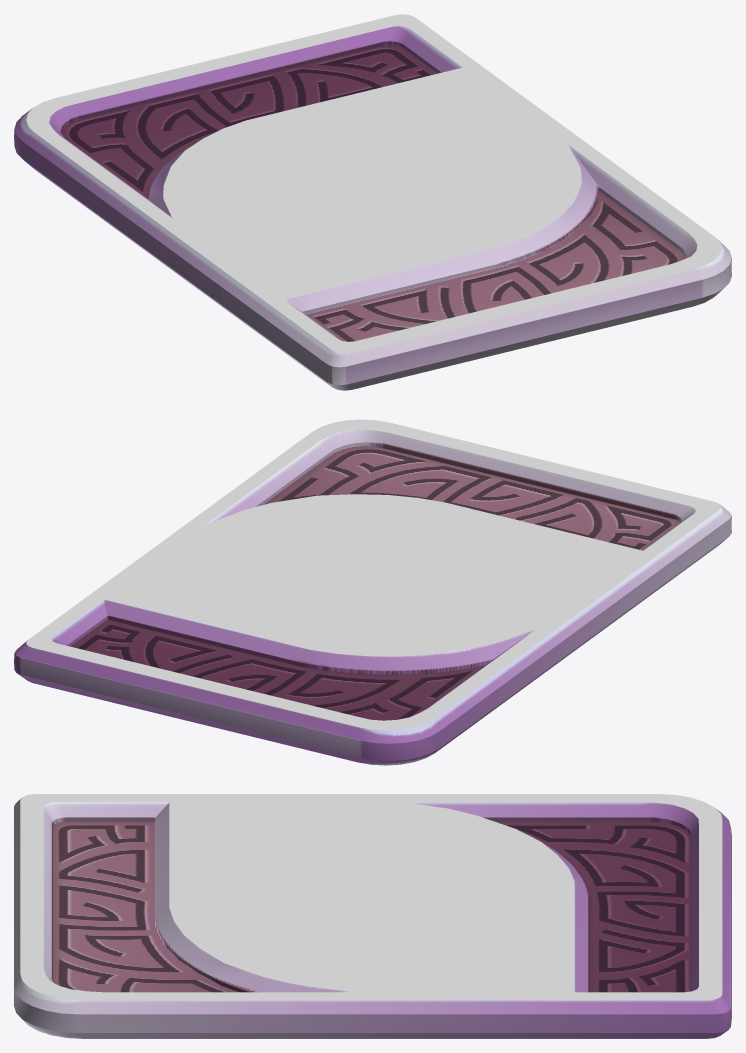
File: card_gameready.fbx
The picture shows the model from 3 angles, top to bottom: view 1: azimuth 30°, elevation 25°; view 2: azimuth 150°, elevation 25°; view 3: azimuth 270°, elevation 25°; orthographic projection. The views are drawn at different scales.
Visible parts, largest first — view 1: card; view 2: card; view 3: card.
Boxes of the visible parts, box(x1,y1,x2,y2) form: card: box(14, 14, 731, 390); card: box(14, 419, 731, 765); card: box(14, 794, 731, 1038).
Bounding box in the file's own units: 344 × 28.91 × 486.
